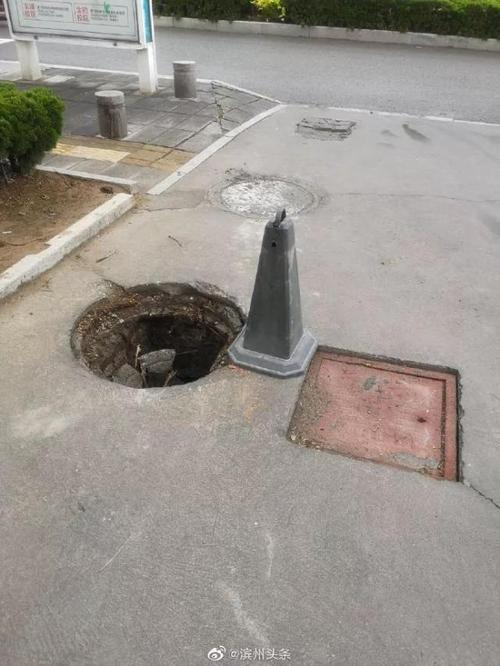lose: (70, 262, 252, 394)
